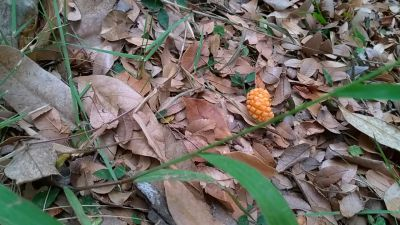eggs: (245, 85, 276, 127)
